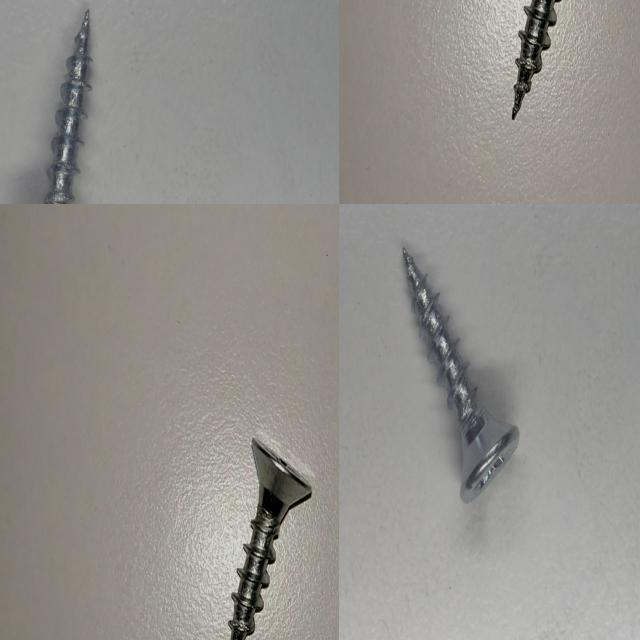Screw: (403, 247, 519, 501), (229, 438, 312, 640), (44, 9, 92, 204), (512, 0, 559, 119)
